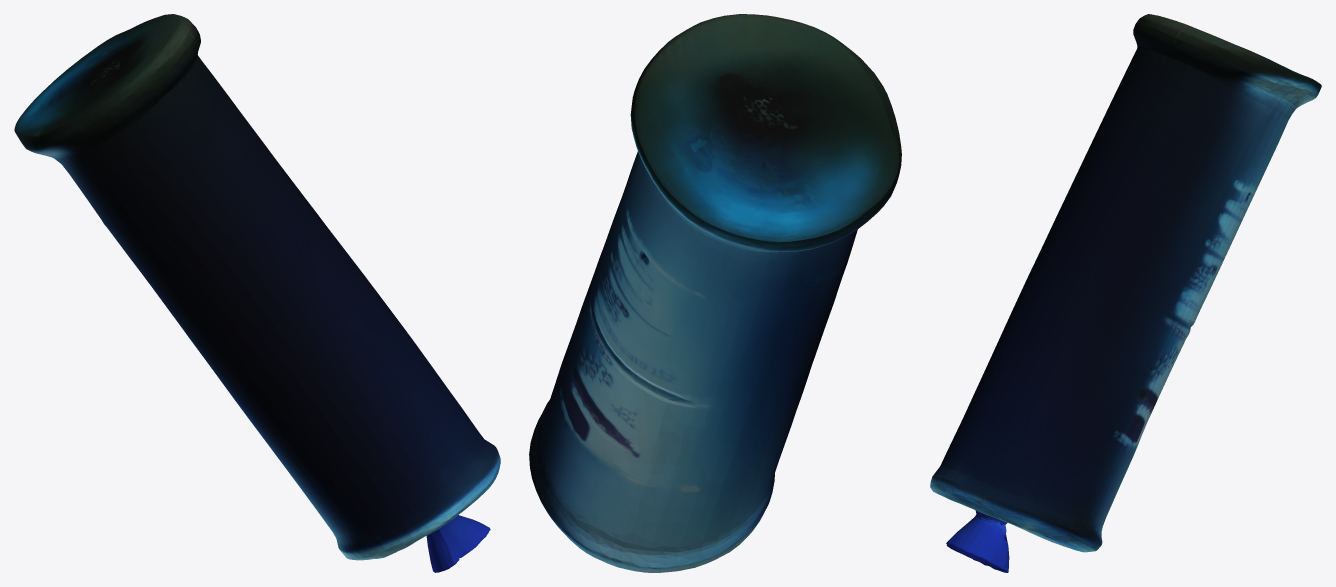
The model's file is trellis_recon.glb.
3 views of the same model, side by side, from view 1: azimuth 30°, elevation 25°; view 2: azimuth 150°, elevation 25°; view 3: azimuth 270°, elevation 25° (orthographic). The views are drawn at different scales.
Parts seen in each view (by area): view 1: world; view 2: world; view 3: world.
Boxes of the visible parts, box(x1,y1,x2,y2) form: world: box(14, 14, 500, 572); world: box(529, 14, 901, 572); world: box(930, 14, 1321, 572).
Bounding box in the file's own units: 0.0541 × 0.072 × 0.054.
Materials: 1 (1 with a texture image).
